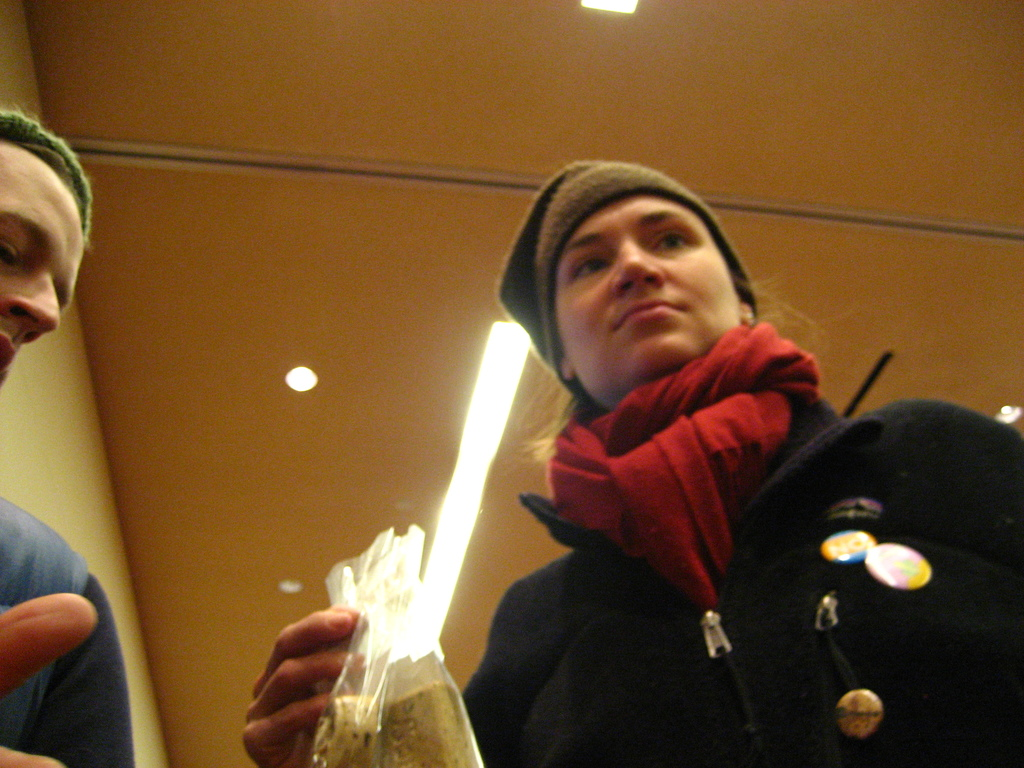Human_hand: (232, 602, 360, 744), (0, 589, 100, 767)
